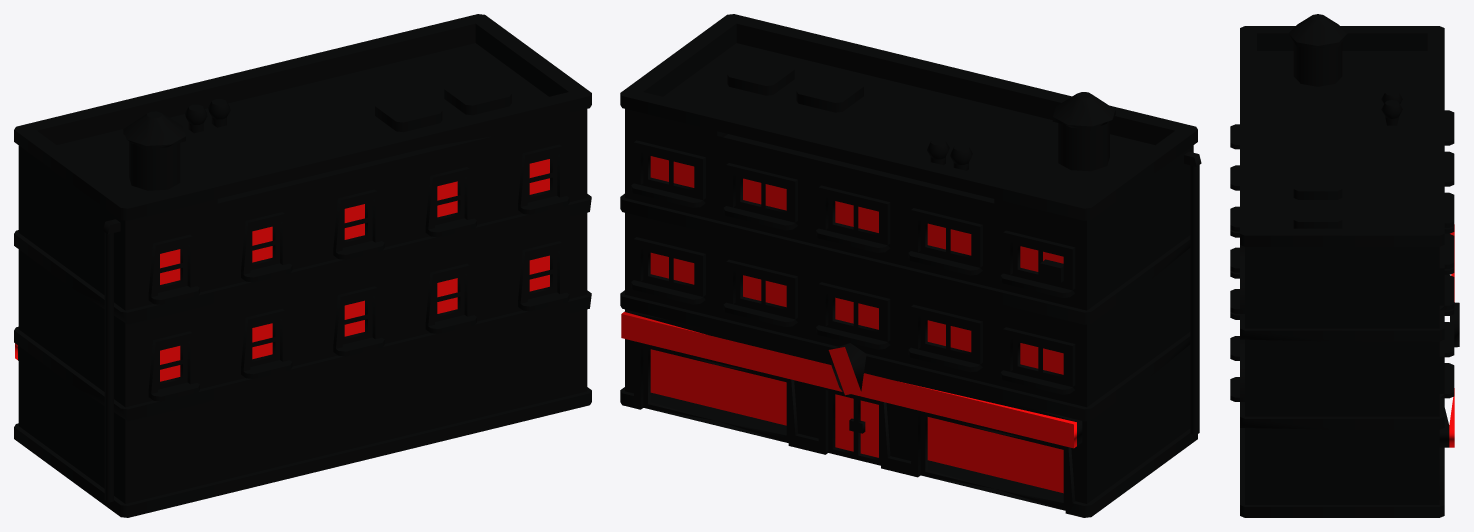
Rendered from building-k.glb.
3 views of the same model, side by side, from view 1: azimuth 30°, elevation 25°; view 2: azimuth 150°, elevation 25°; view 3: azimuth 270°, elevation 25° (orthographic). The views are drawn at different scales.
Parts seen in each view (by area): view 1: building-k; view 2: building-k; view 3: building-k.
Boxes of the visible parts, x1,y1,x2,y2 form: building-k: [14, 14, 591, 517]; building-k: [620, 14, 1201, 517]; building-k: [1230, 14, 1459, 517].
Bounding box in the file's own units: 2.08 × 1.47 × 0.942.
1 material, 1 textured.
